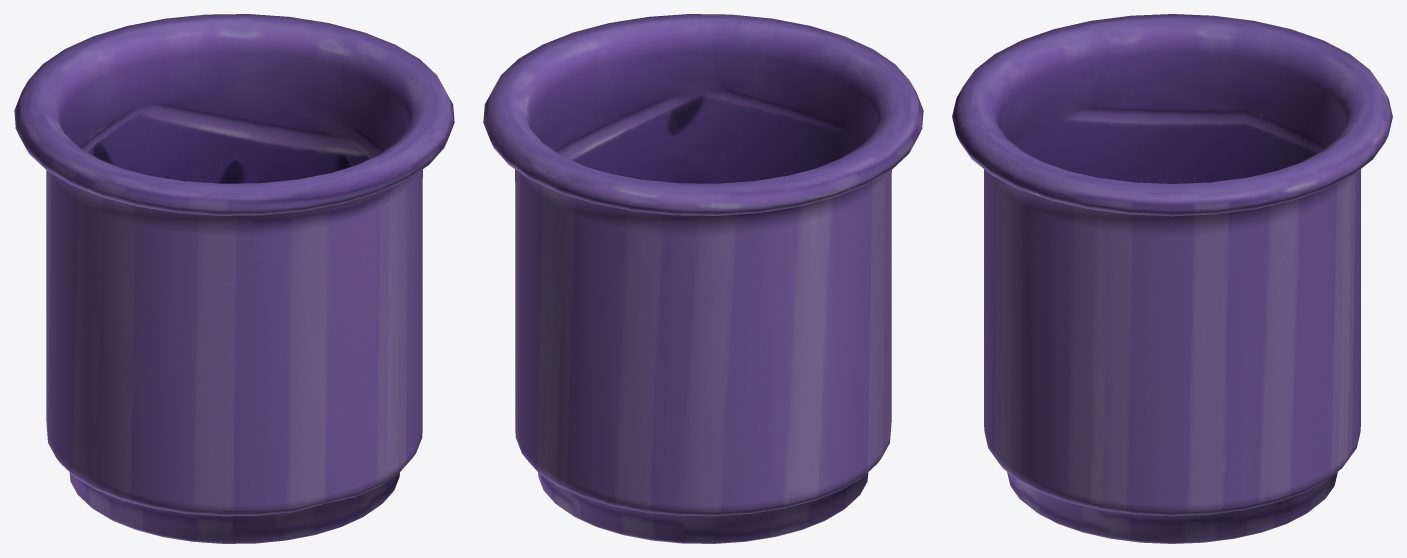
Rendered from 065-f_cups.dae.
3 renders of one model, left to right at view 1: azimuth 30°, elevation 25°; view 2: azimuth 150°, elevation 25°; view 3: azimuth 270°, elevation 25°, orthographic.
Parts seen in each view (by area): view 1: 065-e_cups; view 2: 065-e_cups; view 3: 065-e_cups.
Boxes of the visible parts, bbox=[...] form: 065-e_cups: bbox=[14, 14, 454, 543]; 065-e_cups: bbox=[483, 14, 923, 543]; 065-e_cups: bbox=[952, 14, 1392, 543].
Bounding box in the file's own units: 0.0755 × 0.0755 × 0.0706.
1 material, 1 textured.
